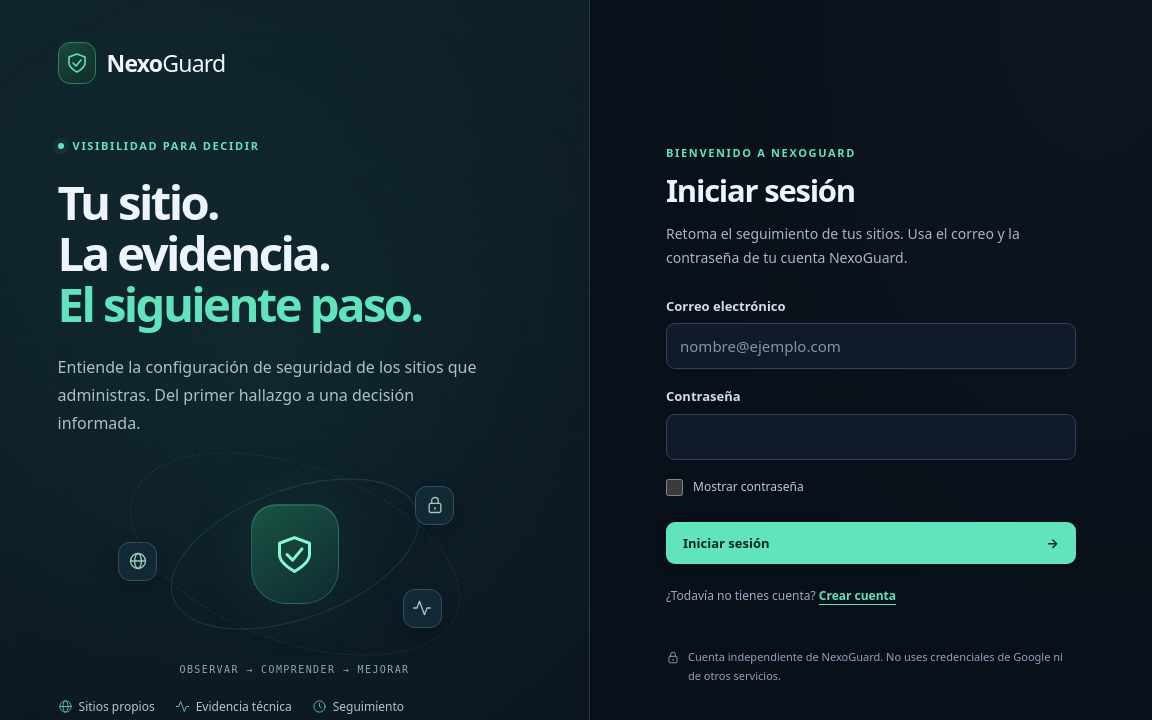
Test: informa un fallo 401 sin navegar
Type "user@example.com" into the field labelled "Correo electrónico".
click(871, 346); type("user@example.com")  # box [666,323,1076,369]
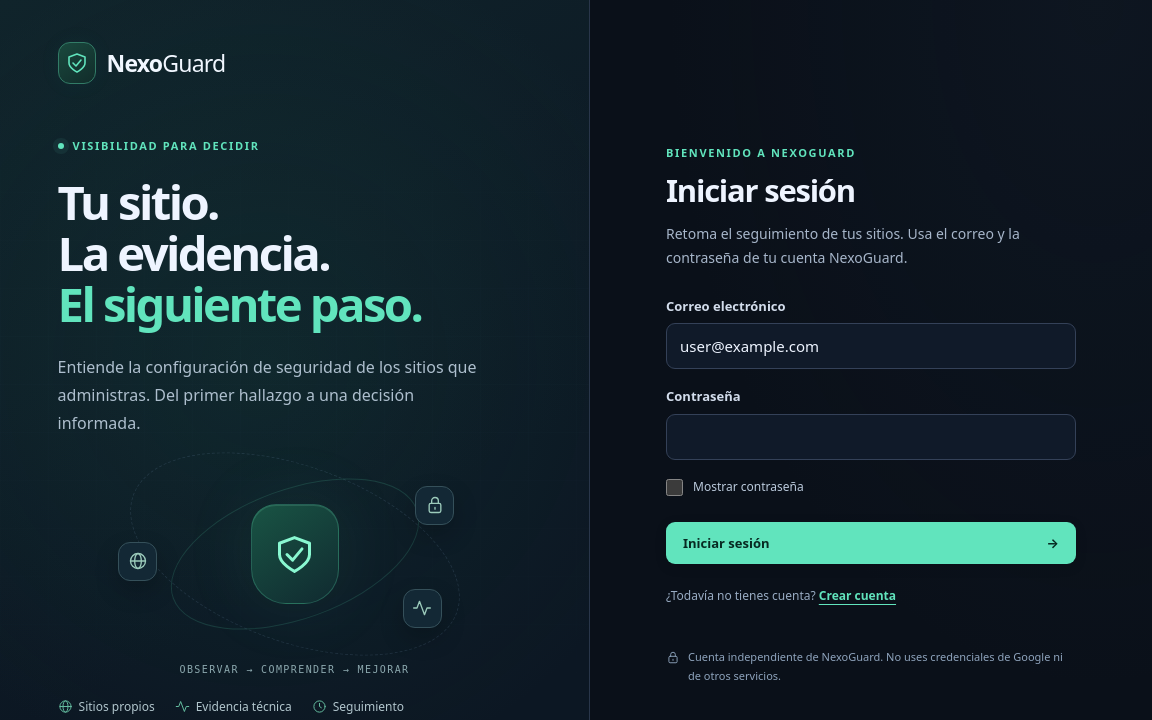
Type "clave-ficticia-123" into the password field labelled "Contraseña".
click(871, 437); type("clave-ficticia-123")  # box [666,414,1076,460]
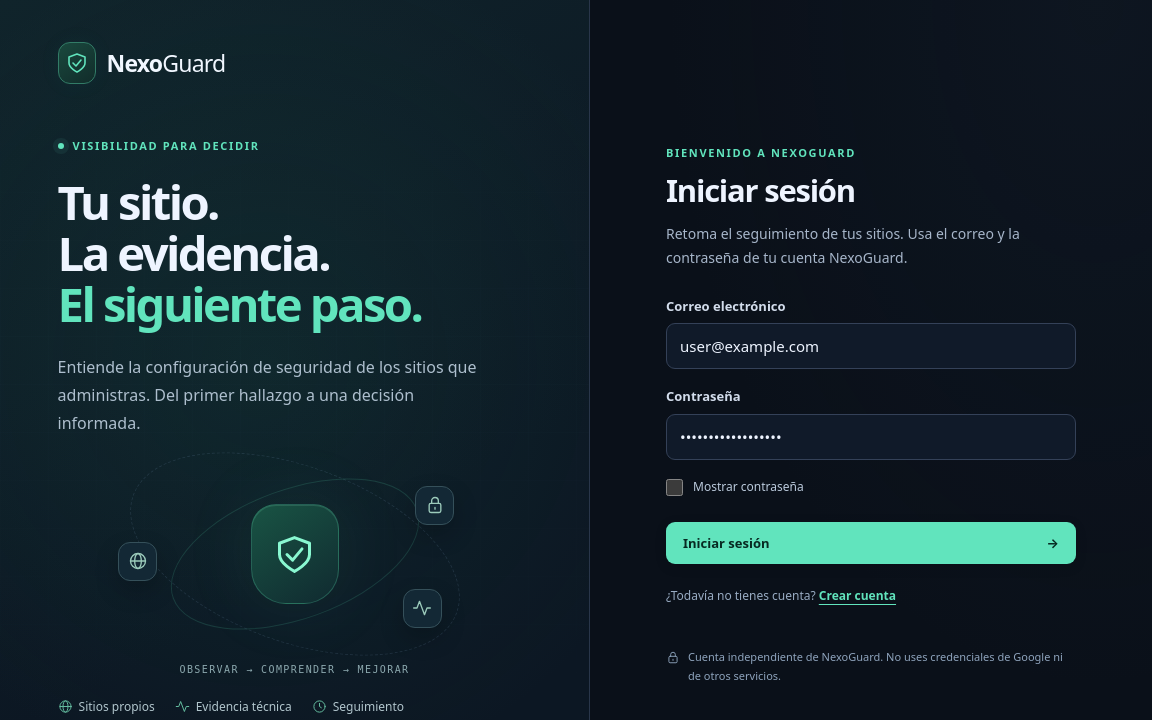
Click the button "Iniciar sesión →".
click(726, 542)  # box [666,522,1076,564]
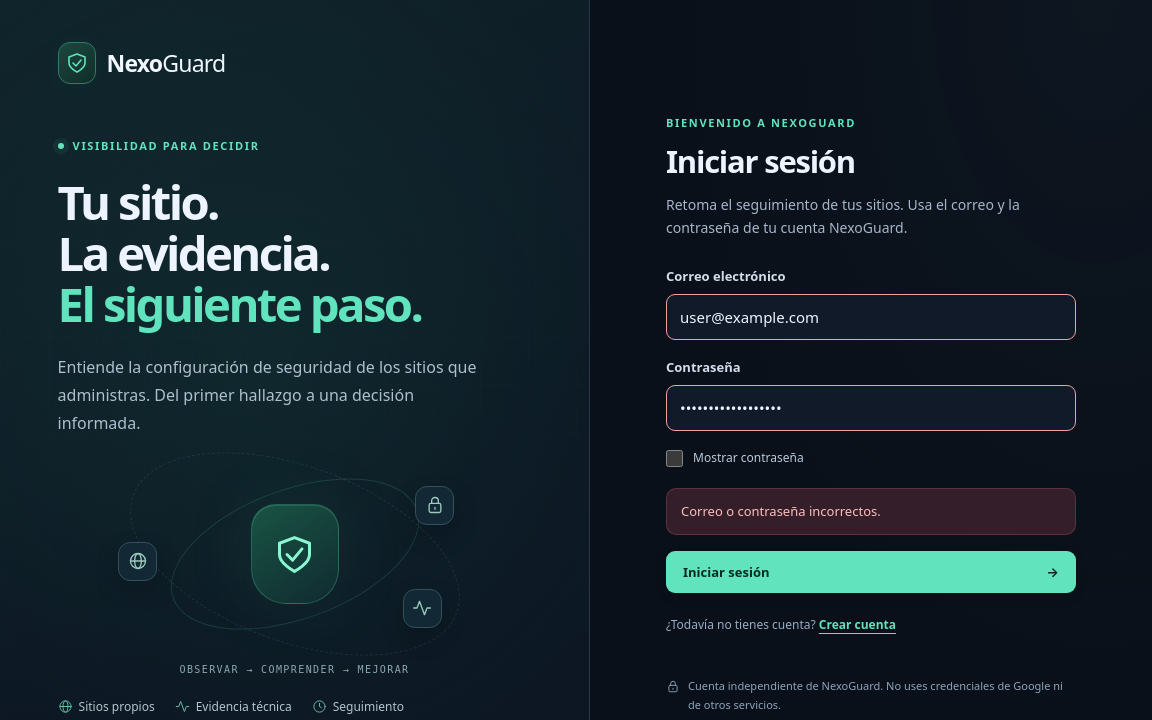
Expected: the message "Correo o contraseña incorrectos." is shown, [666,488,1076,535]
